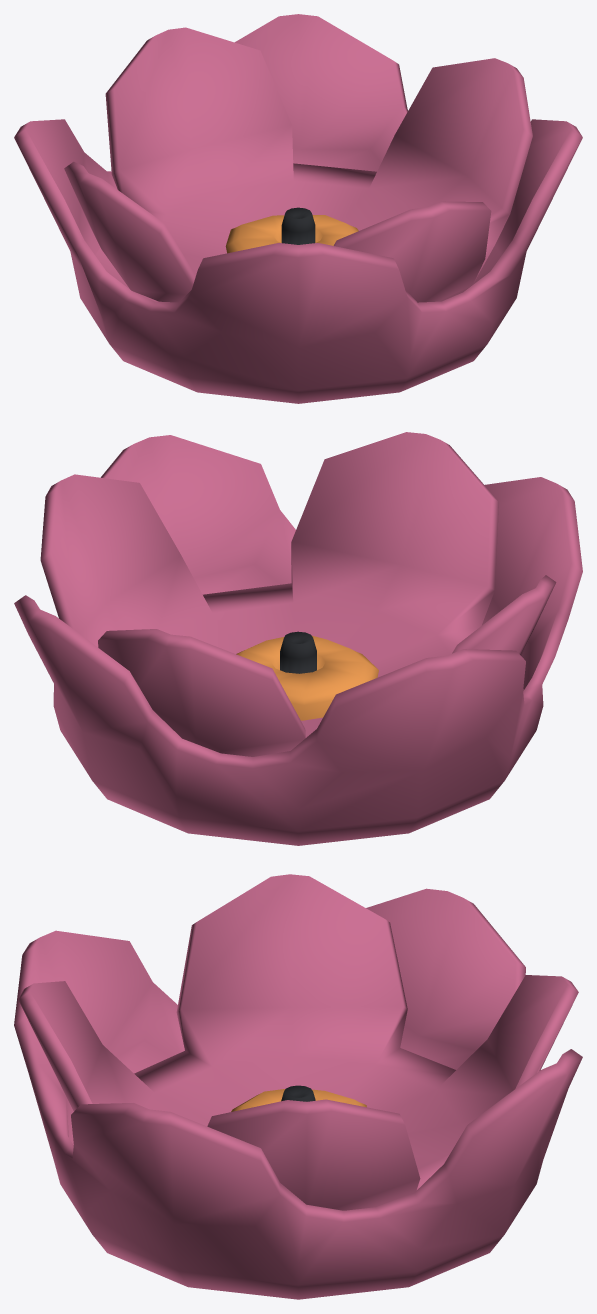
Rendered from Flower_2.fbx.
The picture shows the model from 3 angles, top to bottom: view 1: azimuth 30°, elevation 25°; view 2: azimuth 150°, elevation 25°; view 3: azimuth 270°, elevation 25°; orthographic projection. The views are drawn at different scales.
Visible parts, largest first — view 1: Flower_2; view 2: Flower_2; view 3: Flower_2.
Part boxes in pixels (x1,y1,x2,y2): Flower_2: (14,14,582,403); Flower_2: (14,432,582,845); Flower_2: (14,874,582,1299).
Bounding box in the file's own units: 25.06 × 10.61 × 25.06.
